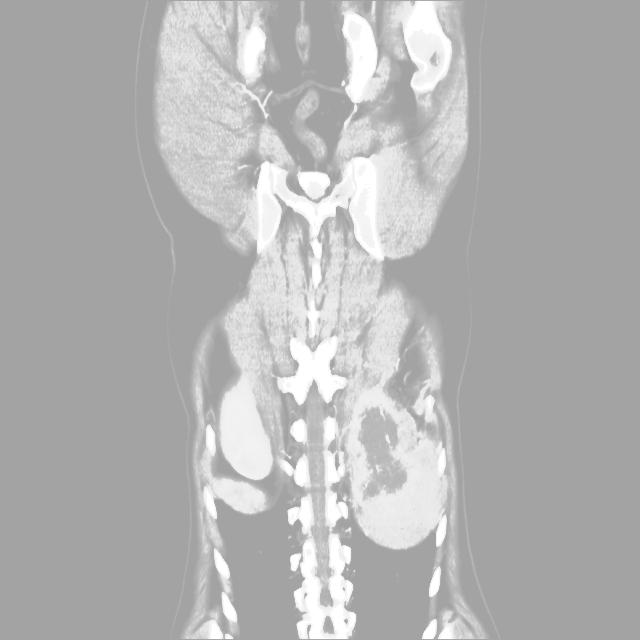TUMOR: (136, 224, 490, 524)
